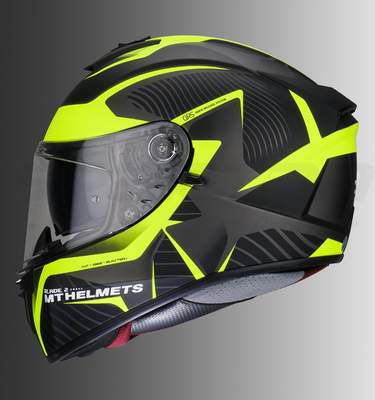with_helmet: (13, 33, 360, 368)
